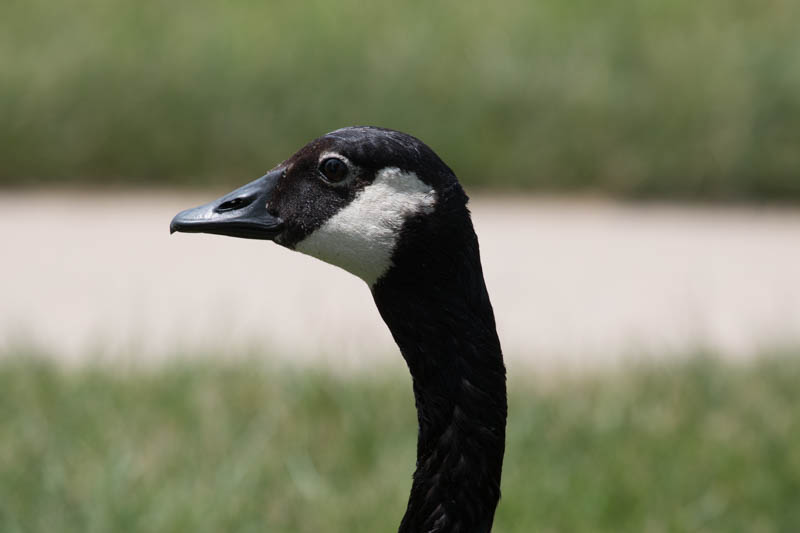goose-head: (170, 124, 486, 293)
